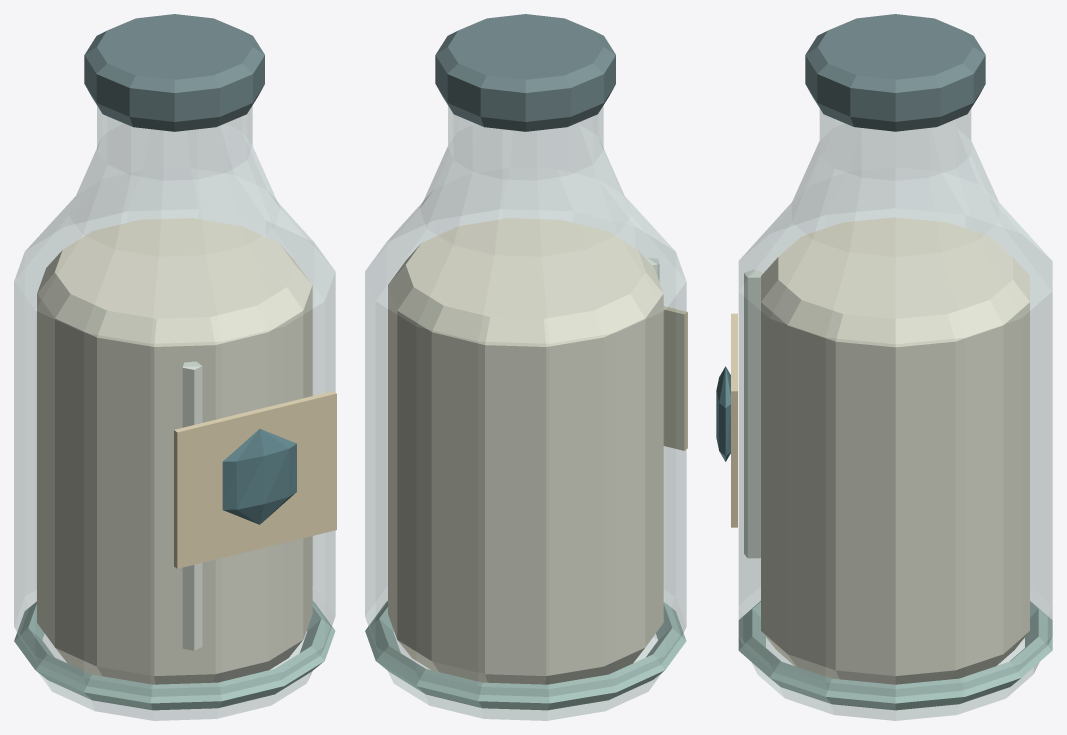
The model's file is milk.glb.
The picture shows the model from 3 angles, left to right: view 1: azimuth 30°, elevation 25°; view 2: azimuth 150°, elevation 25°; view 3: azimuth 270°, elevation 25°; orthographic projection.
Visible parts, largest first — view 1: glass, milk, geometry; view 2: glass, milk, geometry; view 3: glass, milk, geometry.
Part boxes in pixels (<box>): glass: <box>14,106,335,720</box>; milk: <box>37,218,312,684</box>; geometry: <box>14,14,336,710</box>; glass: <box>365,106,686,720</box>; milk: <box>388,218,663,684</box>; geometry: <box>365,14,687,710</box>; glass: <box>739,109,1052,720</box>; milk: <box>761,217,1029,684</box>; geometry: <box>716,14,1052,710</box>.
Bounding box in the file's own units: 0.182 × 0.383 × 0.1899.
